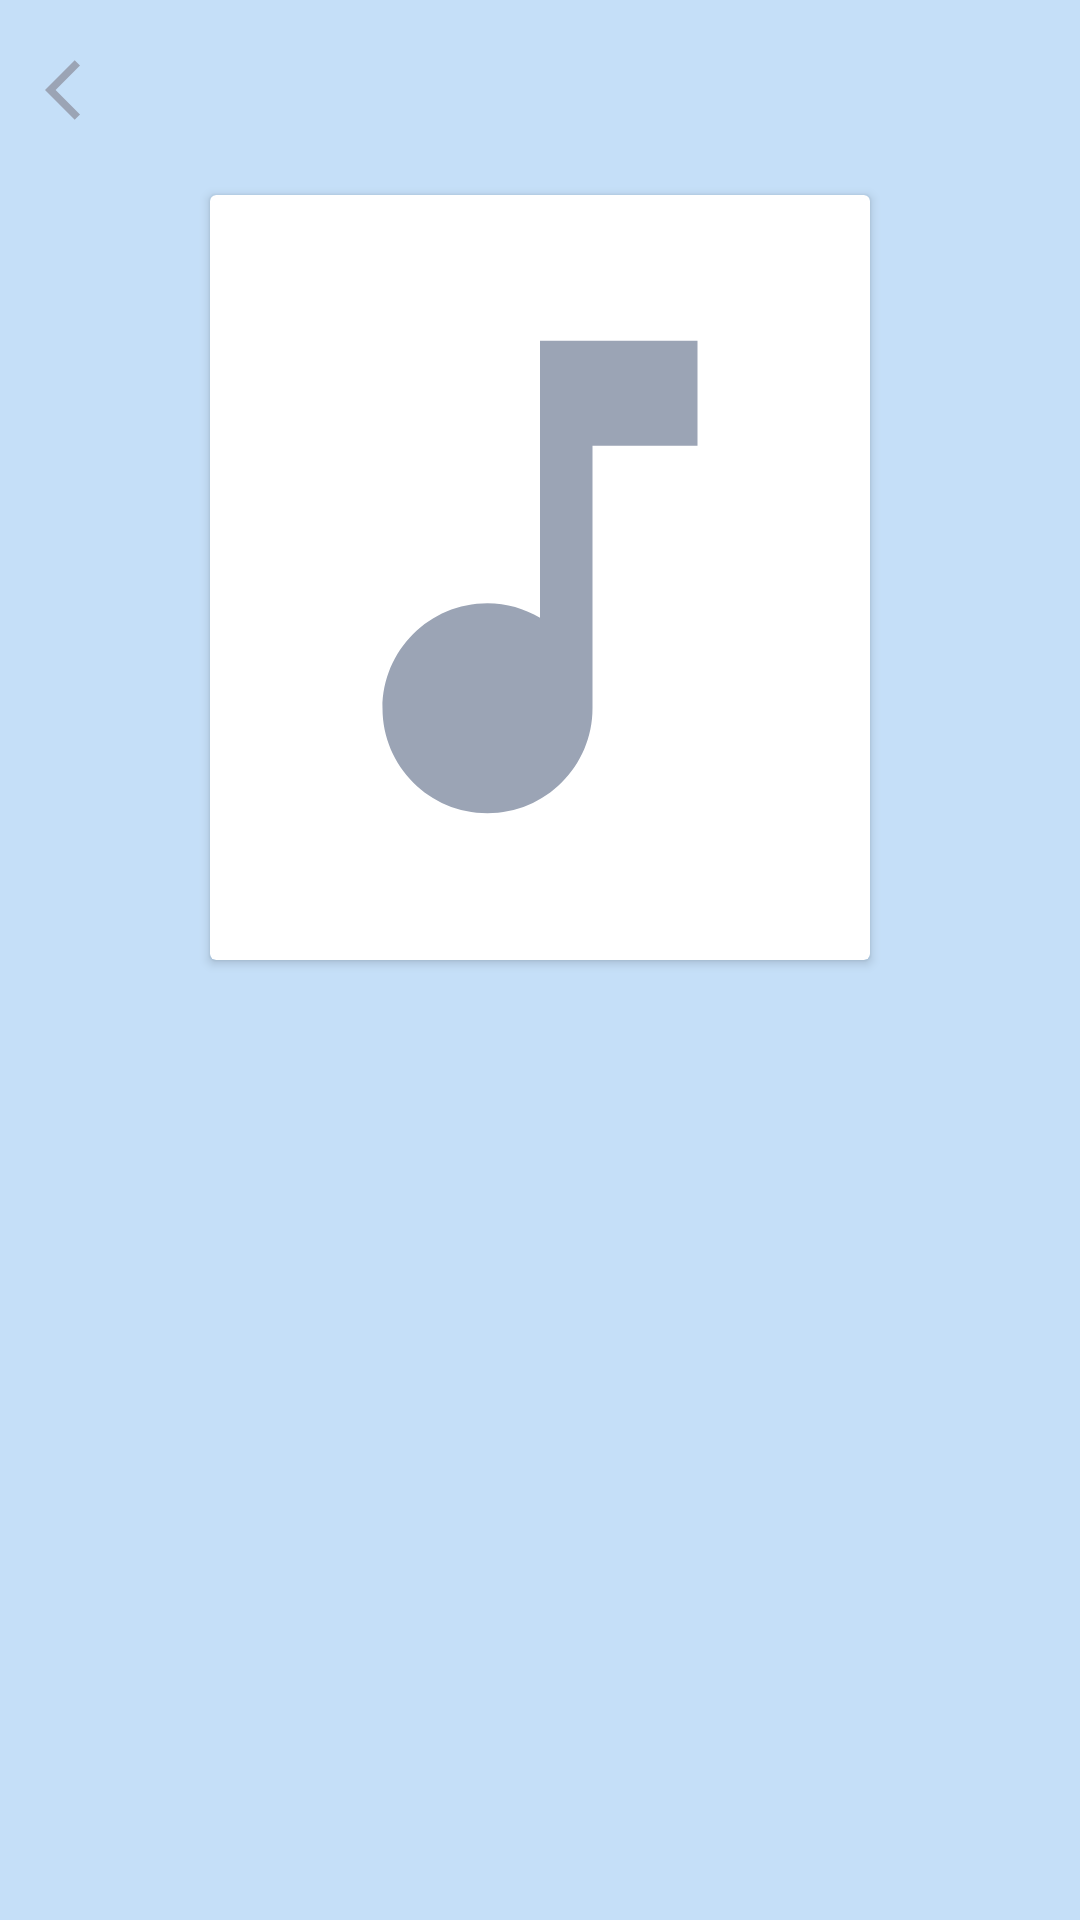

Named icons in this screenshot (1080 x 1920) and their centers, (x=x, y=y):
back: (x=62, y=90)
